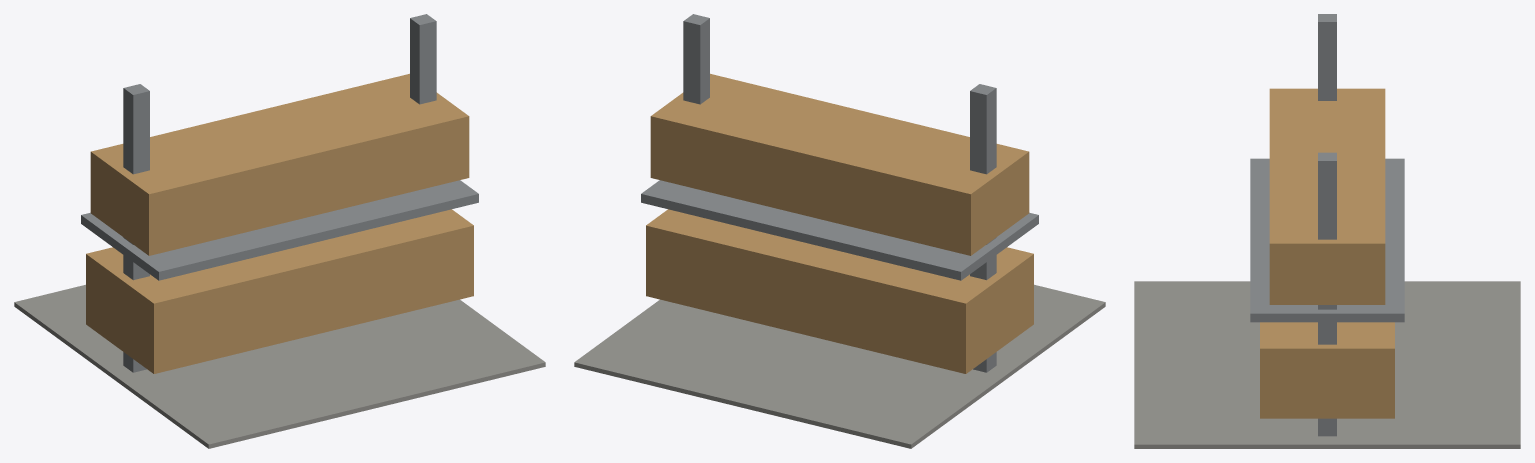
File: timber-rack.glb
3 renders of one model, left to right at view 1: azimuth 30°, elevation 25°; view 2: azimuth 150°, elevation 25°; view 3: azimuth 270°, elevation 25°, orthographic.
Visible parts, largest first — view 1: timber-rack; view 2: timber-rack; view 3: timber-rack.
Part boxes in pixels (x1=…): timber-rack: x1=14, y1=14, x2=545, y2=448; timber-rack: x1=574, y1=14, x2=1105, y2=448; timber-rack: x1=1134, y1=14, x2=1520, y2=448.
Size of the model in its own units: 4 by 3.2 by 4.
